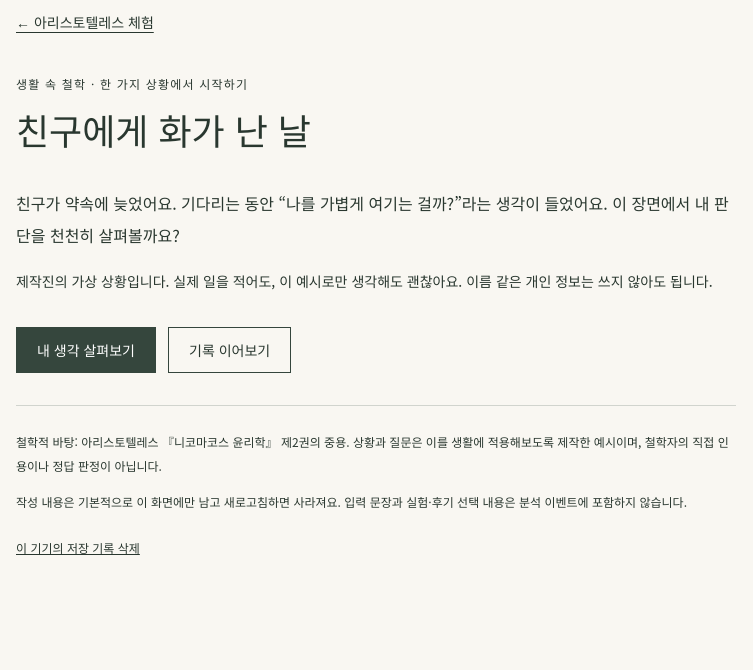
Scenario: handles absent and invalid records without deleting them
Click the button "기록 이어보기": x=230, y=350 [168, 326, 291, 372]
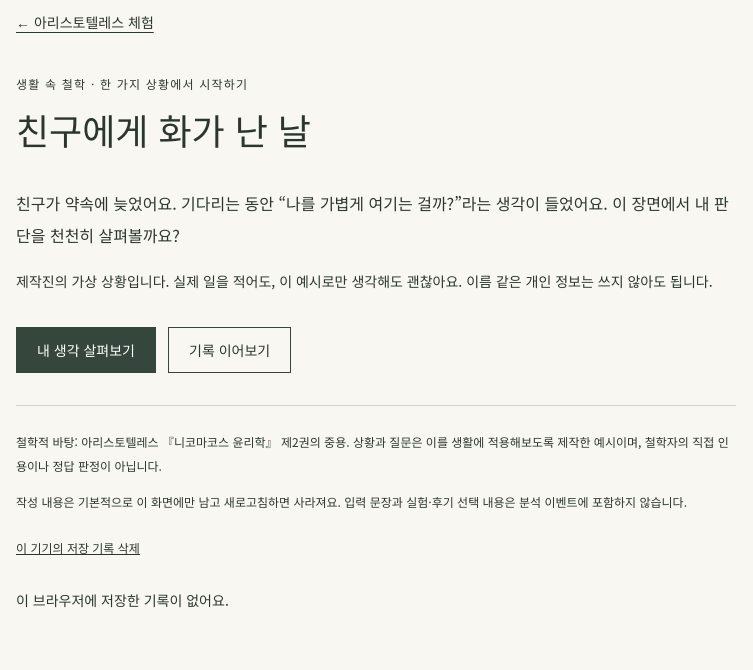
expect the message shows "저장한 기록이 없어요": met, box [16, 590, 229, 610]
Click the button "기록 이어보기": x=230, y=350 [168, 326, 291, 372]
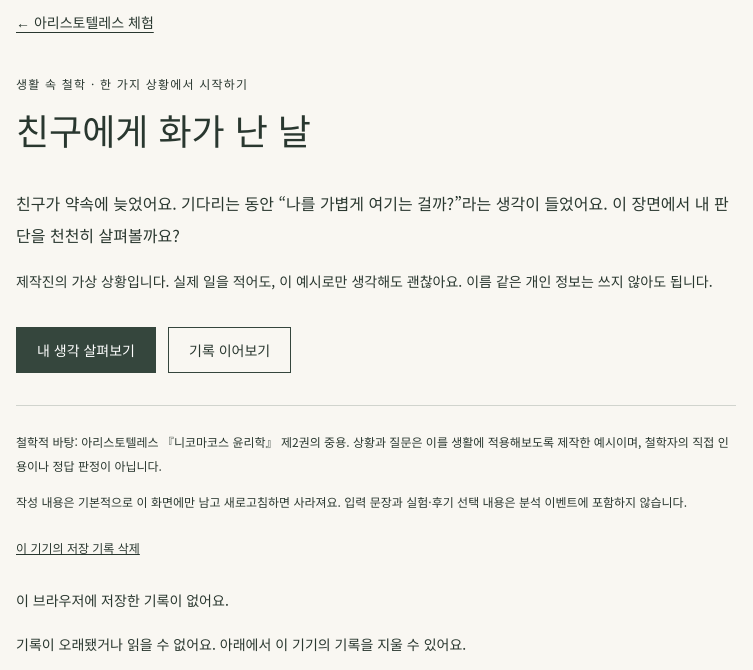
expect the message "기록이 오래됐거나 읽을 수 없어요. 아래에서 이 기기의 기록을 지울 수 있어요." is shown: met, box [16, 634, 466, 654]
